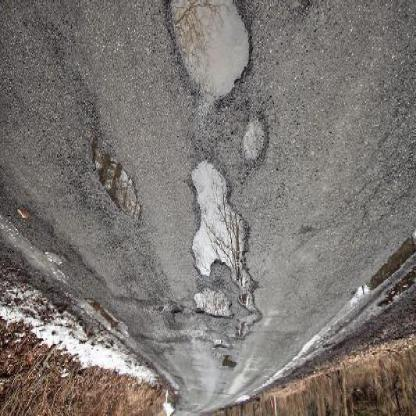pothole: (167, 2, 257, 108), (191, 162, 252, 280), (91, 139, 145, 229), (234, 277, 262, 346), (242, 115, 270, 169), (194, 289, 234, 323), (211, 340, 233, 354)
